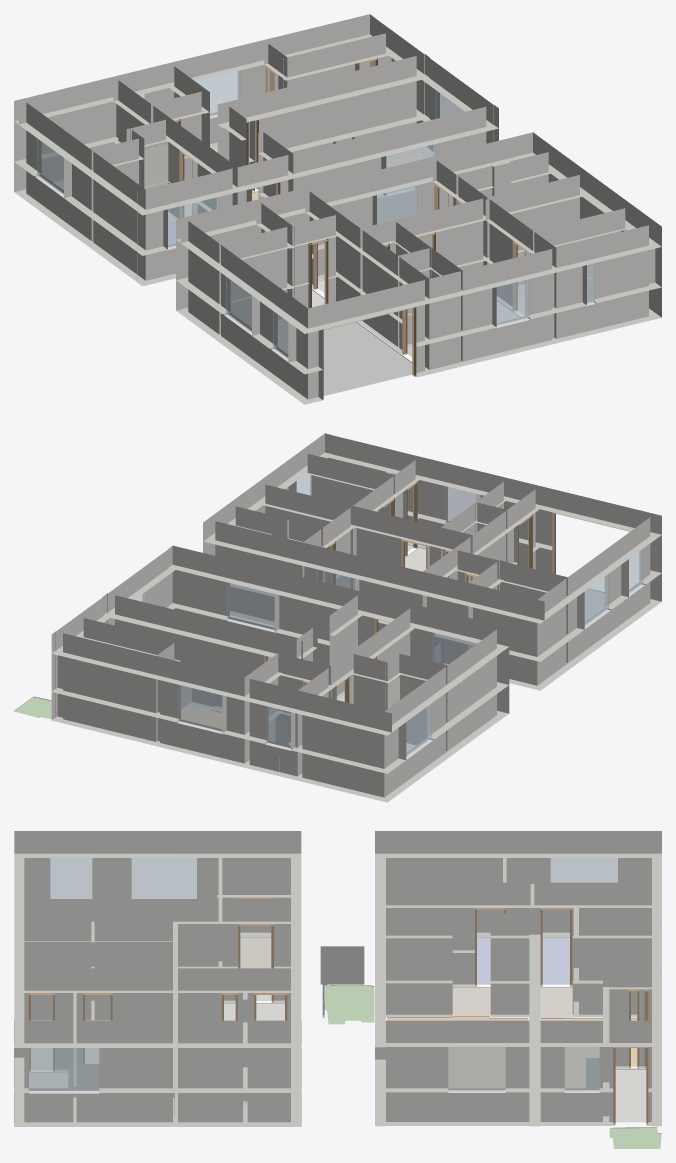
3 views of the same model, one above another, from view 1: azimuth 30°, elevation 25°; view 2: azimuth 150°, elevation 25°; view 3: azimuth 270°, elevation 25° (orthographic). The views are drawn at different scales.
Parts seen in each view (by area): view 1: walls, floor_12_Garage, furniture_1_closet, window_0, window_12, window_2, window_4, window_24, window_3, window_6, window_20; view 2: walls, window_6, window_2, furniture_0_closet, window_24, window_4, window_5, window_3, window_0, furniture_3_appliance, floor_18_Outdoor, window_20; view 3: walls, window_16, floor_4_Living_Room, window_24, window_21, floor_3_Entry, railings, floor_19_Outdoor, window_20, floor_5_Undefined, window_4, window_23 (+11 smaller).
Part boxes in pixels (<box>): walls: <box>14,14,661,404</box>; floor_12_Garage: <box>278,320,412,395</box>; furniture_1_closet: <box>144,144,179,221</box>; window_0: <box>494,277,529,325</box>; window_12: <box>377,183,417,224</box>; window_2: <box>193,70,240,116</box>; window_4: <box>37,138,67,196</box>; window_24: <box>226,273,255,331</box>; window_3: <box>168,197,219,247</box>; window_6: <box>386,144,436,193</box>; window_20: <box>273,307,292,361</box>; walls: <box>51,433,661,802</box>; window_6: <box>227,580,274,629</box>; window_2: <box>178,684,223,731</box>; furniture_0_closet: <box>388,677,426,752</box>; window_24: <box>580,570,608,625</box>; window_4: <box>402,701,431,756</box>; window_5: <box>266,706,290,748</box>; window_3: <box>432,633,477,665</box>; window_0: <box>445,486,476,522</box>; furniture_3_appliance: <box>181,685,214,714</box>; floor_18_Outdoor: <box>14,696,51,719</box>; window_20: <box>625,545,643,593</box>; walls: <box>14,831,661,1126</box>; window_16: <box>29,1048,99,1090</box>; floor_4_Living_Room: <box>387,1016,528,1087</box>; window_24: <box>131,858,196,898</box>; window_21: <box>448,1047,505,1090</box>; floor_3_Entry: <box>452,987,572,1017</box>; railings: <box>243,946,364,1104</box>; floor_19_Outdoor: <box>324,985,374,1024</box>; window_20: <box>50,858,92,898</box>; floor_5_Undefined: <box>615,1068,646,1122</box>; window_4: <box>550,858,617,882</box>; window_23: <box>564,1047,599,1090</box>.
Size of the model in its own units: 12.3 by 2.72 by 15.62.
